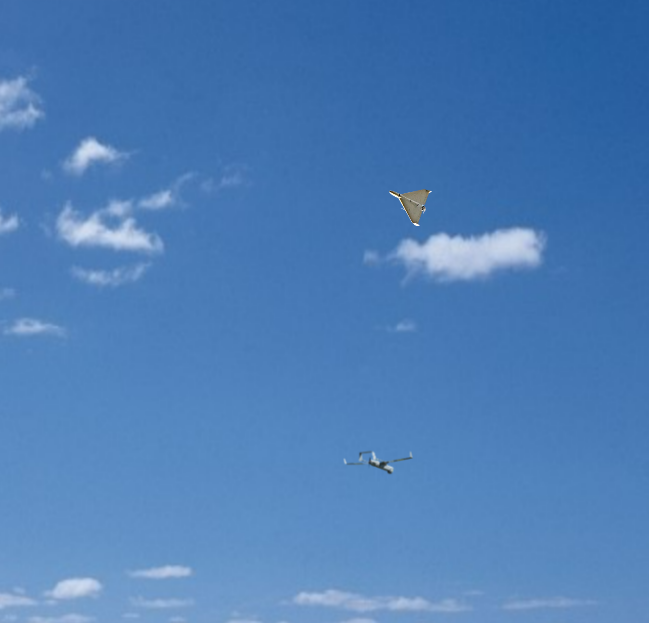military drone: (343, 450, 413, 474), (388, 189, 432, 226)
